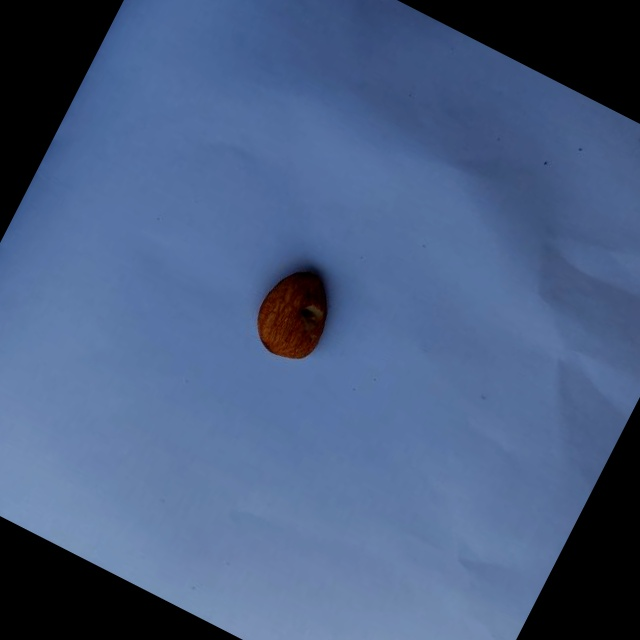grade3: (241, 254, 352, 376)
